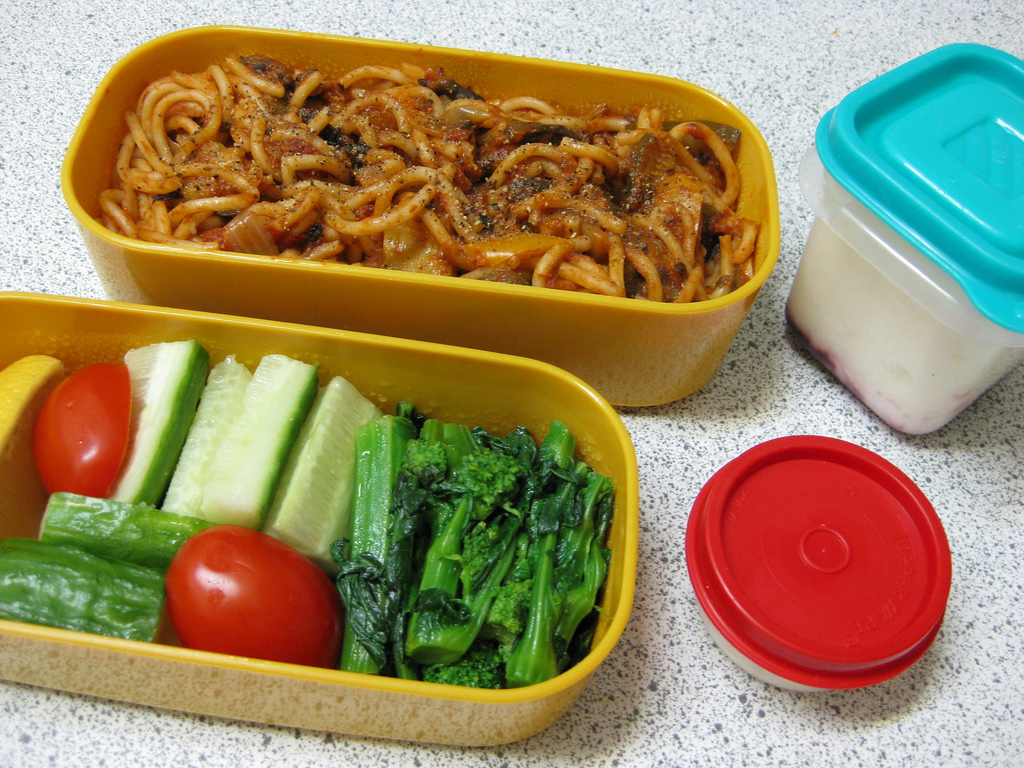chopped lettuce: (406, 425, 599, 671)
plain spaghetti: (163, 71, 732, 302)
